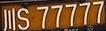S: (17, 8, 29, 30)
